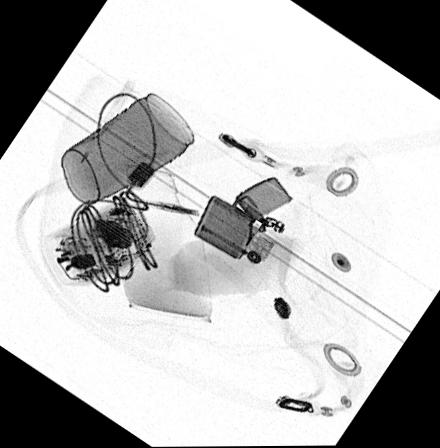Lighter: (192, 175, 293, 264)
